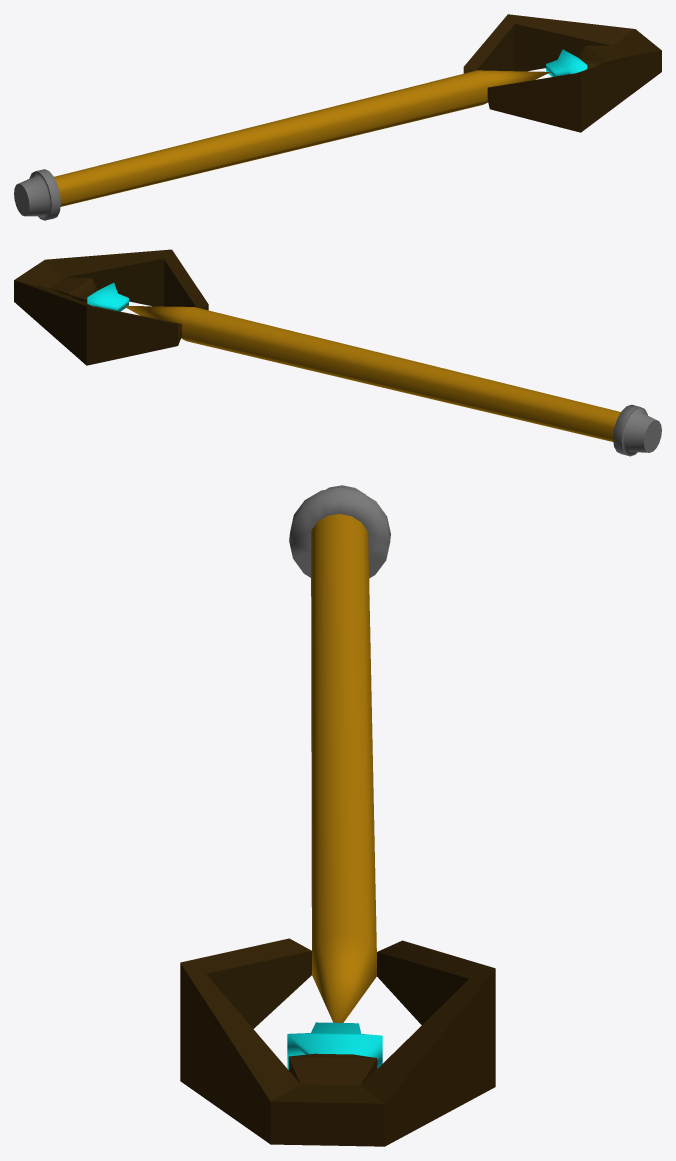
Rendered from SM_Wand.fbx.
3 views of the same model, one above another, from view 1: azimuth 30°, elevation 25°; view 2: azimuth 150°, elevation 25°; view 3: azimuth 270°, elevation 25° (orthographic). The views are drawn at different scales.
Parts seen in each view (by area): view 1: Wand; view 2: Wand; view 3: Wand.
Boxes of the visible parts, x1=… form: Wand: x1=14, y1=14, x2=661, y2=220; Wand: x1=14, y1=249, x2=661, y2=456; Wand: x1=180, y1=485, x2=495, y2=1146.
Bounding box in the file's own units: 49.44 × 4.48 × 10.81.
